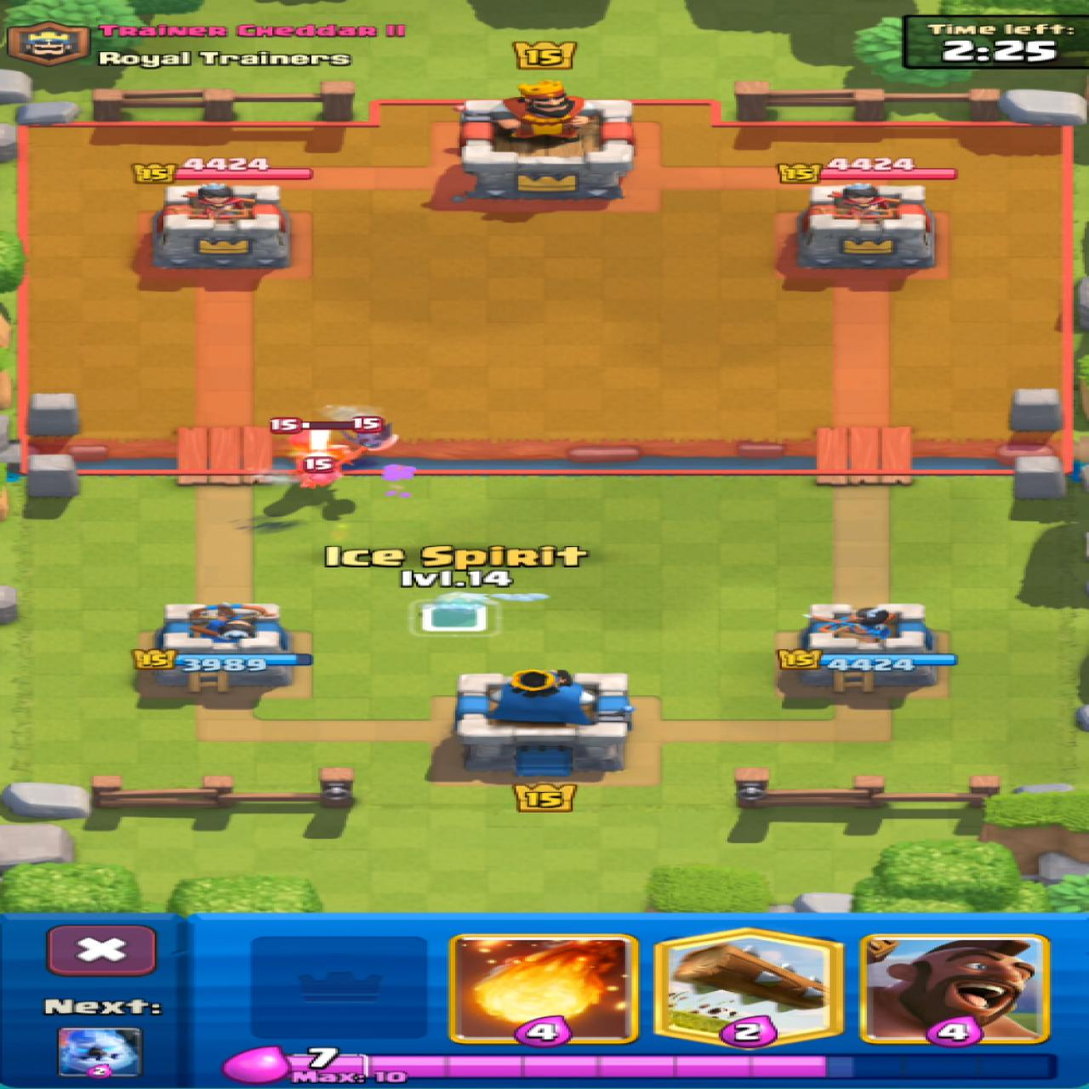Enemy-Bat: (340, 410, 396, 449)
Enemy-KingTower: (457, 81, 634, 198)
Enemy-NightWitch: (290, 431, 333, 488), (331, 443, 366, 463)
Enemy-PrincessTower: (797, 183, 934, 270), (155, 183, 290, 268)
